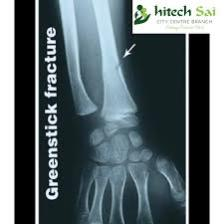greenstick-fracture: (57, 0, 184, 223)
